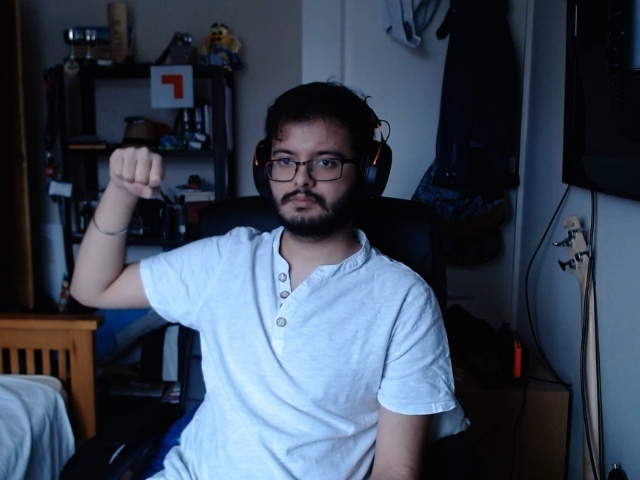Yes: (103, 143, 165, 202)
